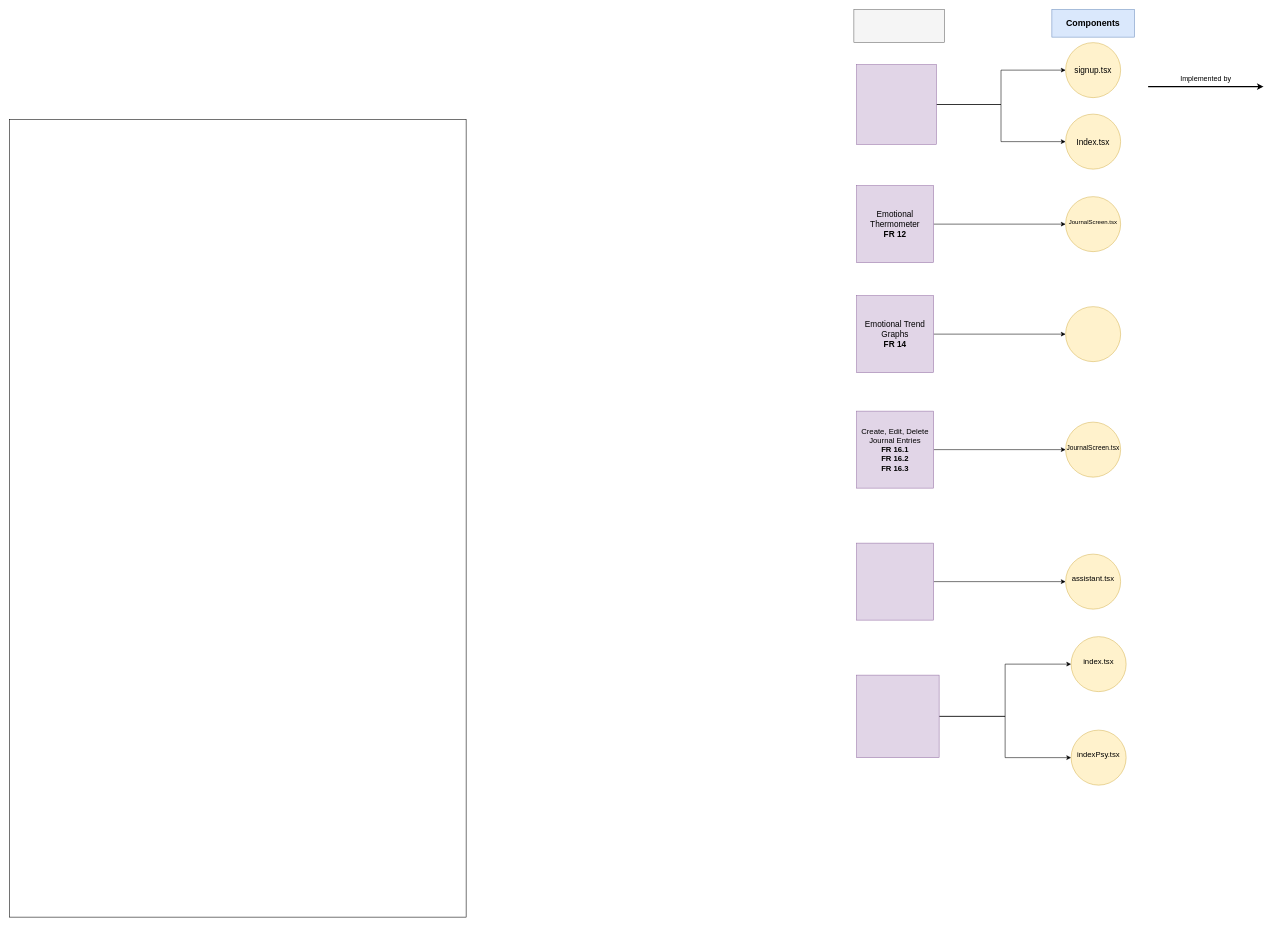
This 1278x927 diagram has some shape labels left out. Each missing label, with the centre of its shape:
Client and Psychologist Different UIs FR 1: [897,716]
Emergency Hotline Display FR 22: [895,581]
insights.tsx: [1093,334]
Requirements: [899,26]
User Authentication FR 2 FR 3: [896,104]
